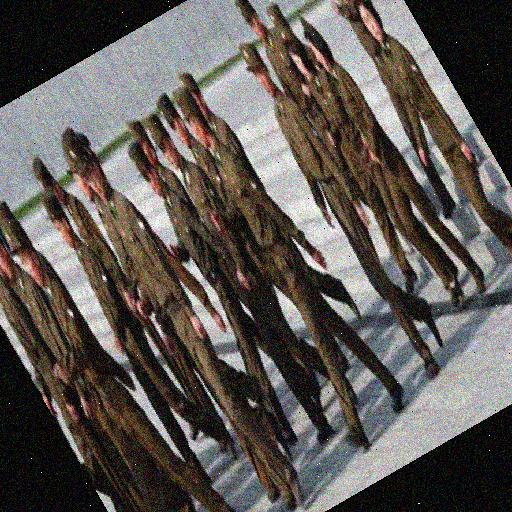north army: (6, 54, 512, 467)
